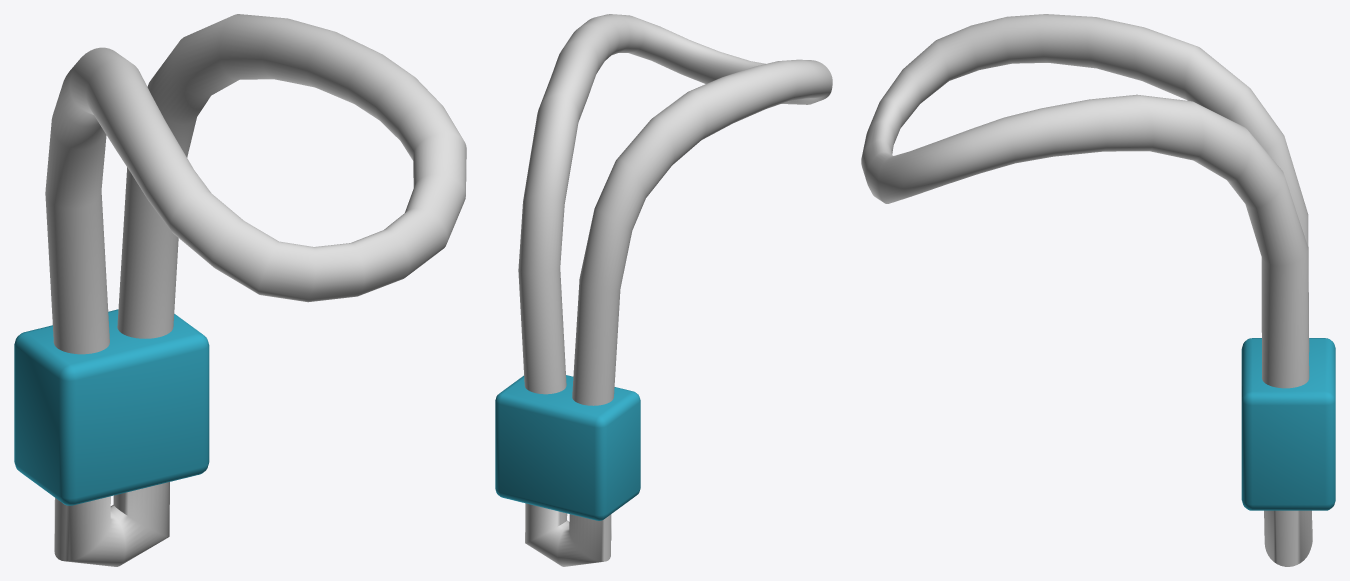
The model's file is BaendelF2D2.fbx.
3 renders of one model, left to right at view 1: azimuth 30°, elevation 25°; view 2: azimuth 150°, elevation 25°; view 3: azimuth 270°, elevation 25°, orthographic. The views are drawn at different scales.
Visible parts, largest first — view 1: Bändel_F2, Cube; view 2: Bändel_F2, Cube; view 3: Bändel_F2, Cube.
Boxes of the visible parts, bbox=[...] form: Bändel_F2: bbox=[45, 14, 466, 566]; Cube: bbox=[14, 309, 209, 505]; Bändel_F2: bbox=[518, 14, 832, 566]; Cube: bbox=[495, 375, 640, 520]; Bändel_F2: bbox=[861, 14, 1312, 566]; Cube: bbox=[1241, 338, 1335, 510].
Size of the model in its own units: 3.67 by 6.95 by 5.96.
